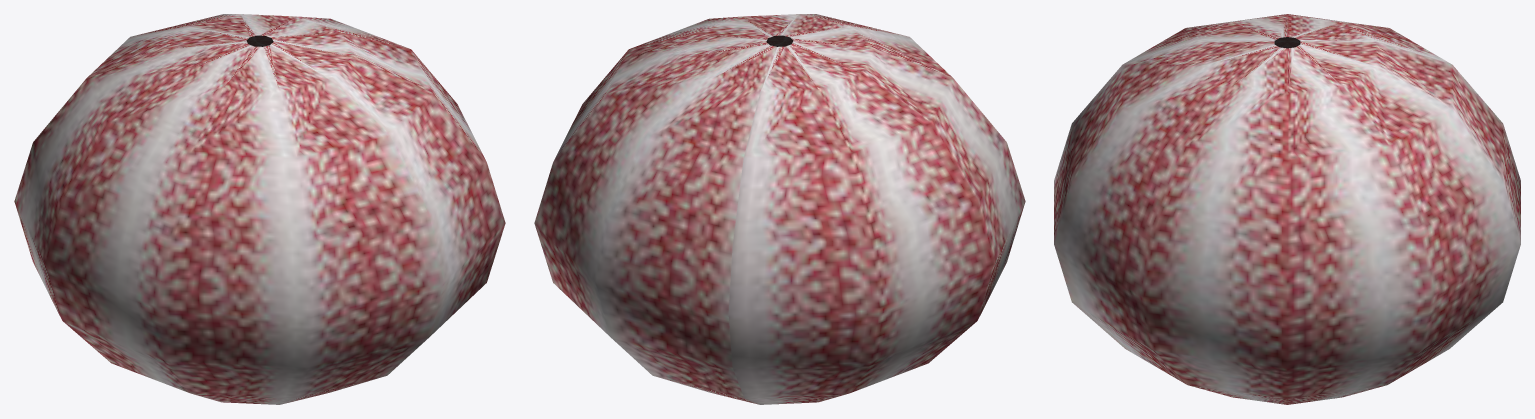
The model's file is urchinRed.fbx.
The picture shows the model from 3 angles, left to right: view 1: azimuth 30°, elevation 25°; view 2: azimuth 150°, elevation 25°; view 3: azimuth 270°, elevation 25°; orthographic projection.
Visible parts, largest first — view 1: urchinRedObject; view 2: urchinRedObject; view 3: urchinRedObject.
Part boxes in pixels (left/top/right/bottom): urchinRedObject: left=14, top=14, right=505, bottom=404; urchinRedObject: left=534, top=14, right=1025, bottom=404; urchinRedObject: left=1054, top=14, right=1520, bottom=404.
Bounding box in the file's own units: 0.0919 × 0.0666 × 0.0874.
1 material, 1 textured.
